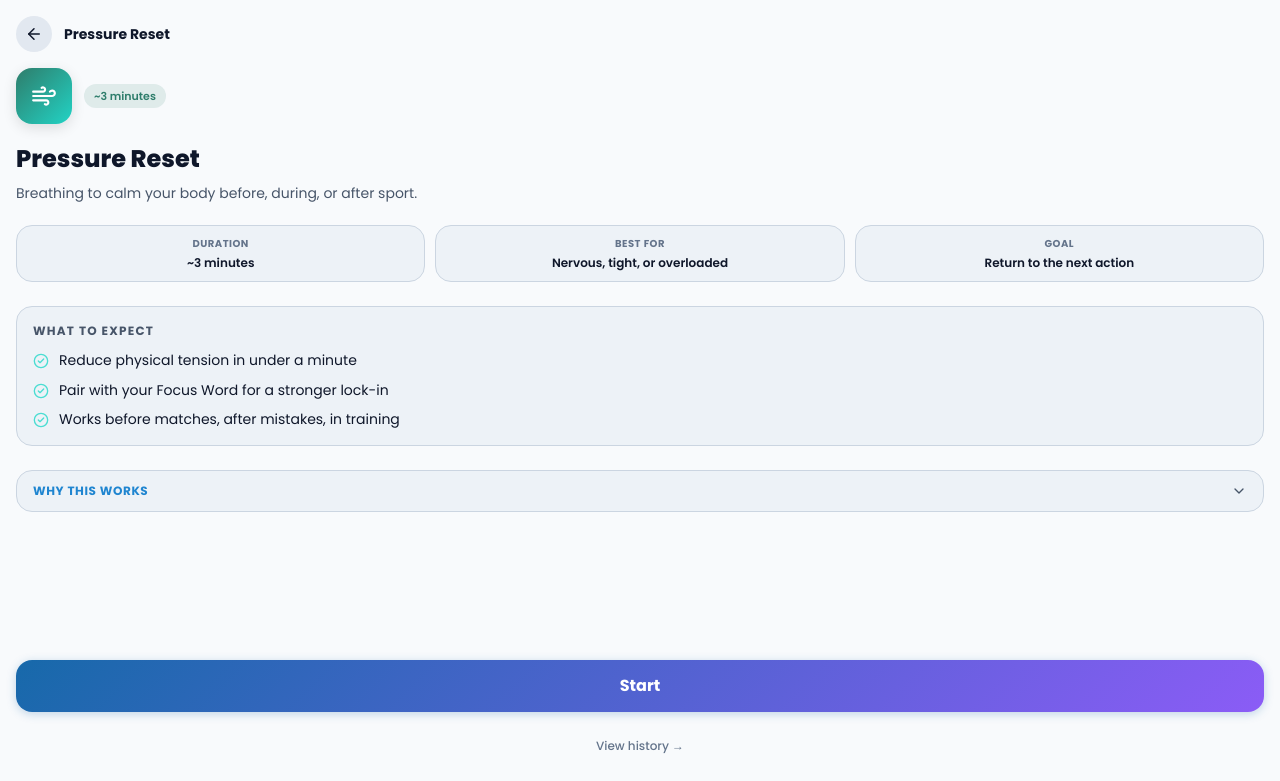
Scenario: Pressure Reset — shared practice shell (Stage 7) › Start advances from intro into the existing feeling question
The image size is (1280, 781).
Click the button "Start": (640, 686) [16,660,1264,712]
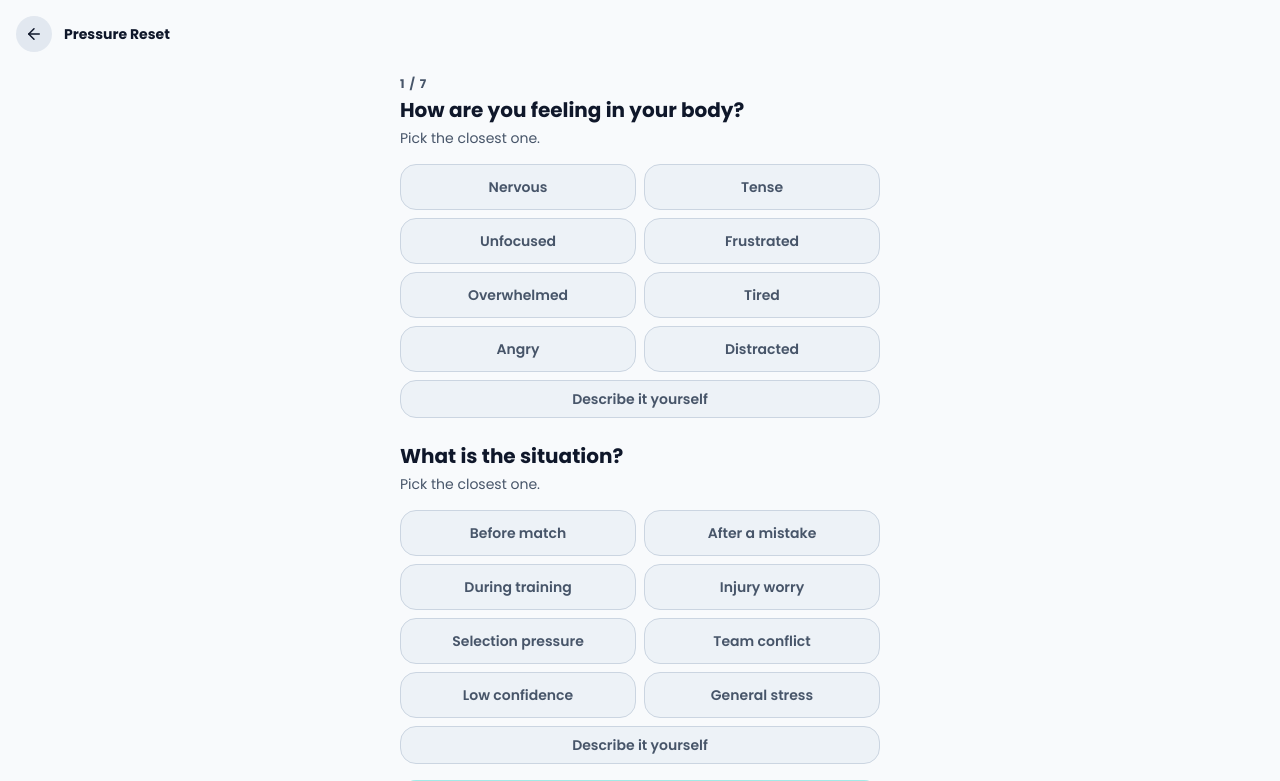
Now the heading "How are you feeling in your body?" is shown, box [400,96,744,124]
Now the heading "What is the situation?" is shown, box [400,442,623,470]
